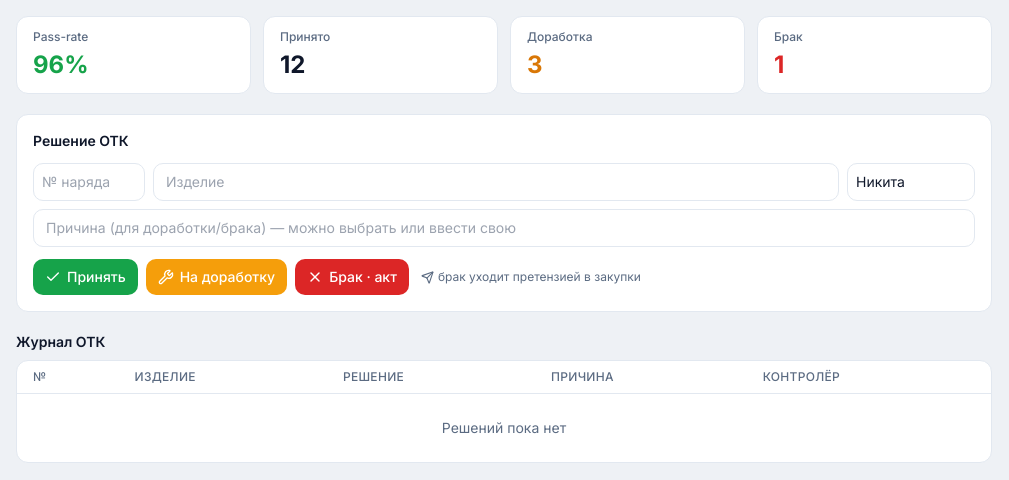
Scenario: OtkPanel › после решения обновляет журнал и KPI из refresh-фетча
expect the text "Решений пока нет" is shown: met, box [17,394,991,462]
Click the button "Принять".
click(85, 277)  # box [33,259,138,295]
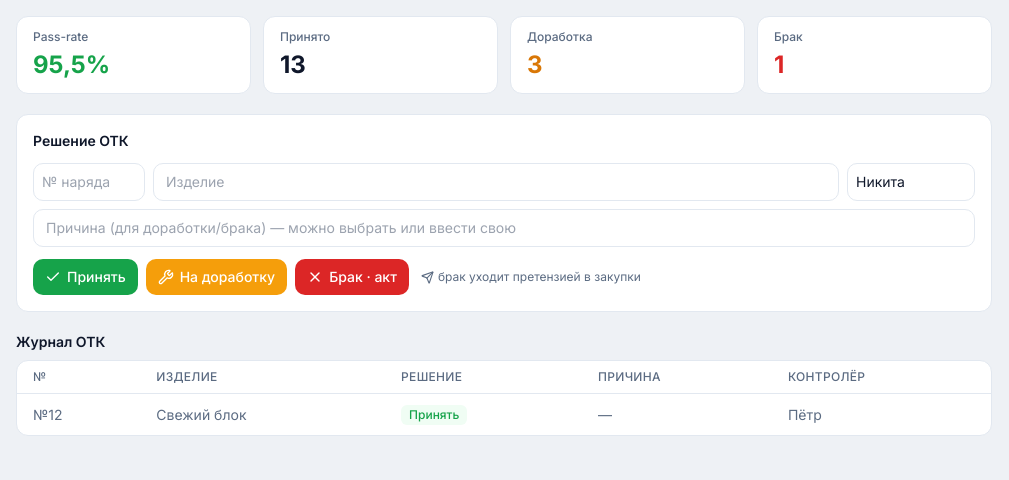
expect the text "Свежий блок" is shown: met, box [140,394,385,435]
expect the text "95,5%" is shown: met, box [33,50,110,79]
